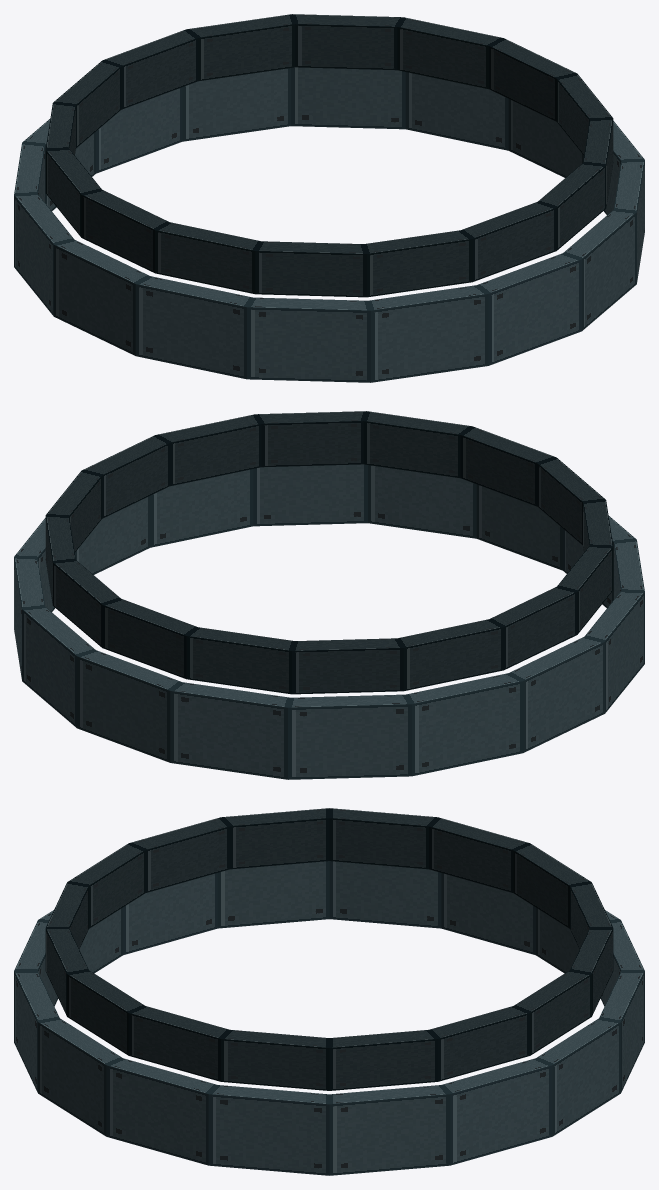
Rendered from detail_chimney_cap.obj.
3 renders of one model, top to bottom at view 1: azimuth 30°, elevation 25°; view 2: azimuth 150°, elevation 25°; view 3: azimuth 270°, elevation 25°, orthographic.
Bounding box in the file's own units: 2.5 × 0.5 × 2.5.
